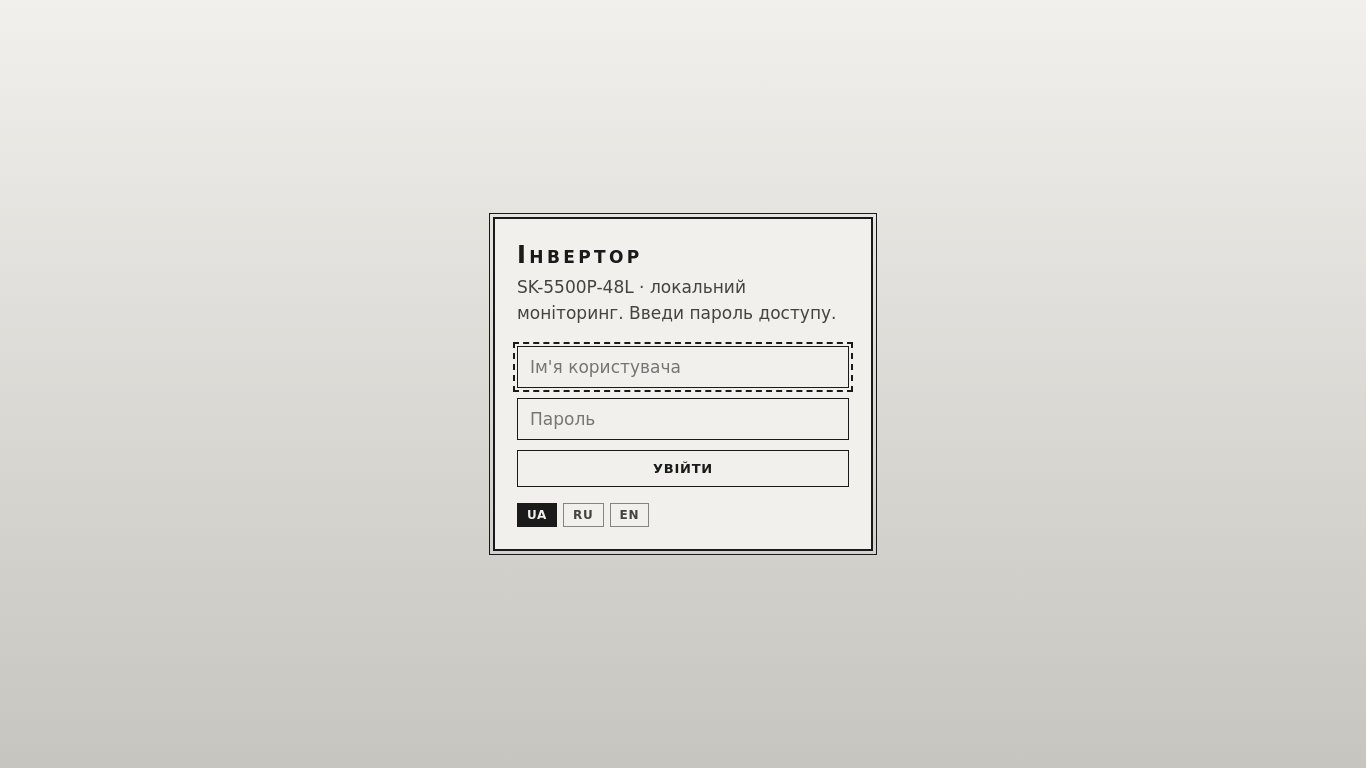
LoginPage › shows the raw server error message when no known code is set
Step 1. Click the button "Увійти" → [683, 468], box [517,450,849,487]
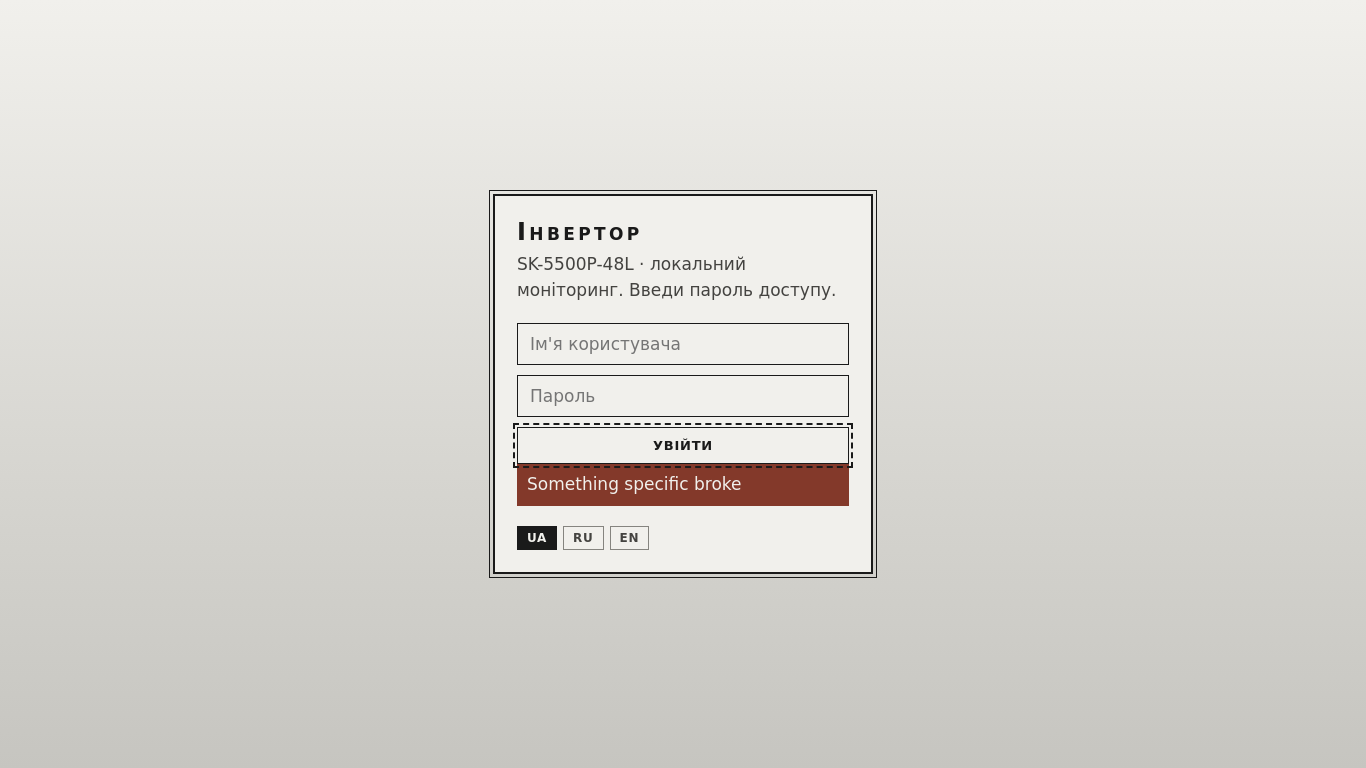
Expected: the text "Something specific broke" is shown, [517,464,849,506]
